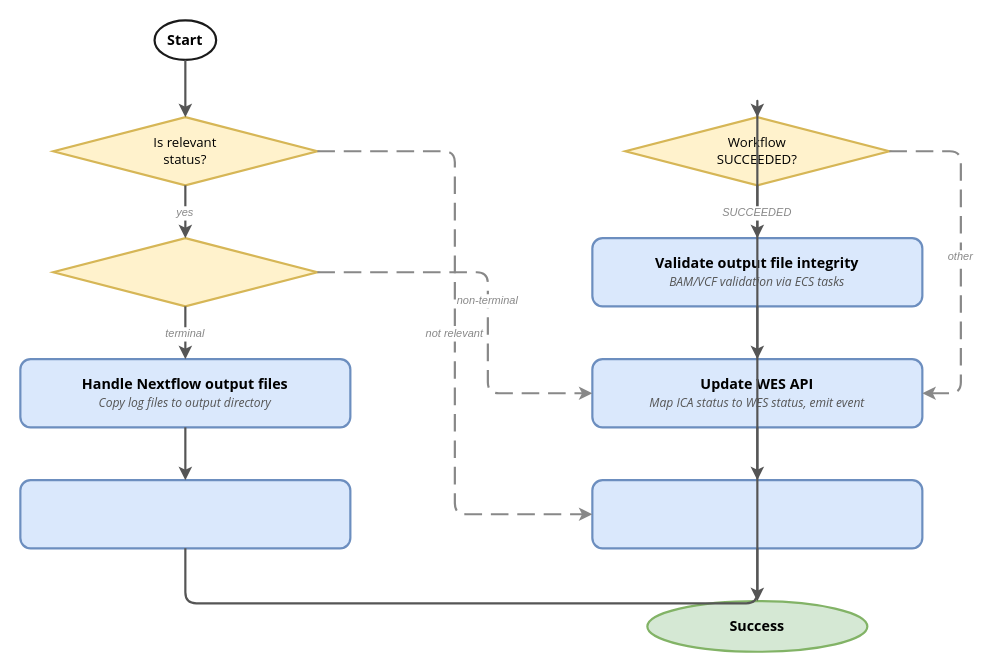
The diagram is 993 pixels wide and 671 high, and some of its shapes have lost their labels. The box of each missing label's shape, as (x1, y1, x2, y2) in pixels:
Is terminal status?: (52, 237, 318, 307)
Sync Filemanager Tag outputs with portalRunId and verify sync: (19, 479, 351, 549)
Unlock callback ID Release waiting ICA event Lambda: (591, 479, 923, 549)
